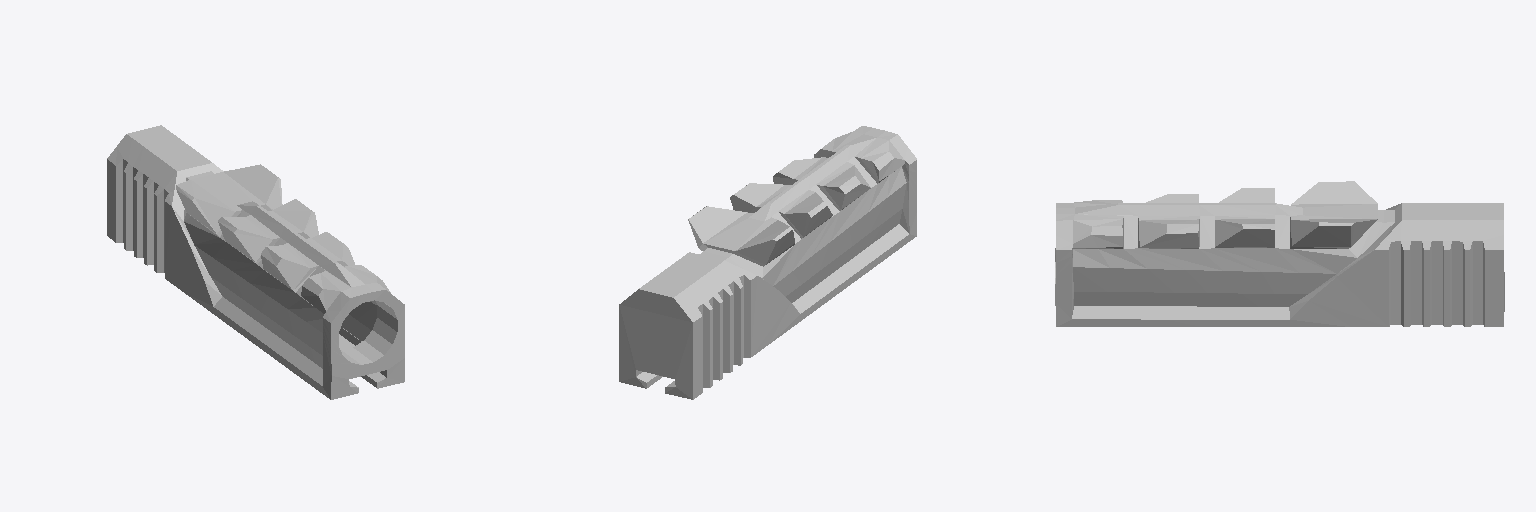
The model's file is MSphere_LSlide.obj.
3 renders of one model, left to right at view 1: azimuth 30°, elevation 25°; view 2: azimuth 150°, elevation 25°; view 3: azimuth 270°, elevation 25°, orthographic.
Visible parts, largest first — view 1: LowPolyLeftReciever_Cube.003; view 2: LowPolyLeftReciever_Cube.003; view 3: LowPolyLeftReciever_Cube.003.
Boxes of the visible parts, x1,y1,x2,y2 form: LowPolyLeftReciever_Cube.003: [107, 125, 404, 399]; LowPolyLeftReciever_Cube.003: [619, 126, 916, 399]; LowPolyLeftReciever_Cube.003: [1055, 181, 1504, 326].
Size of the model in its own units: 0.143 by 0.1656 by 0.6249.